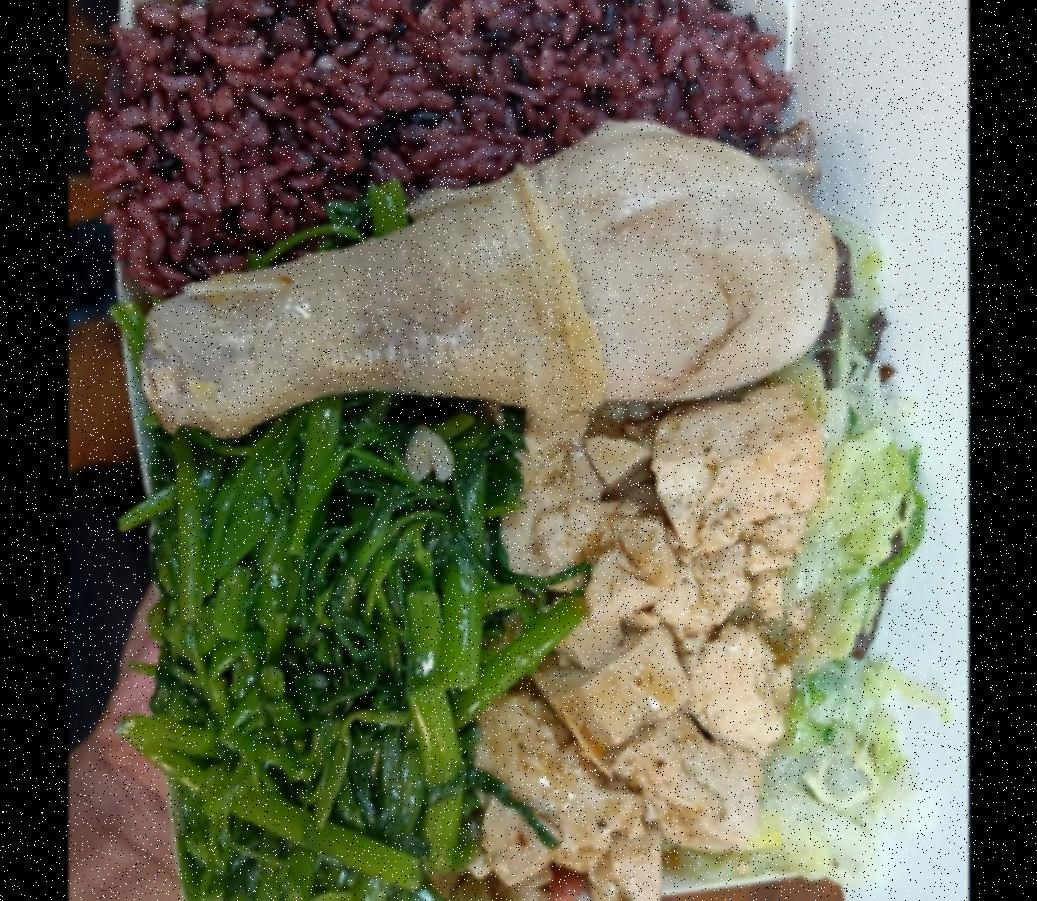big fried chicken leg: (107, 0, 856, 901)
braised fish: (139, 0, 788, 275)
braised fish fillet: (178, 394, 525, 901), (489, 378, 822, 901), (692, 316, 908, 898)
braised pork: (150, 101, 853, 466)
